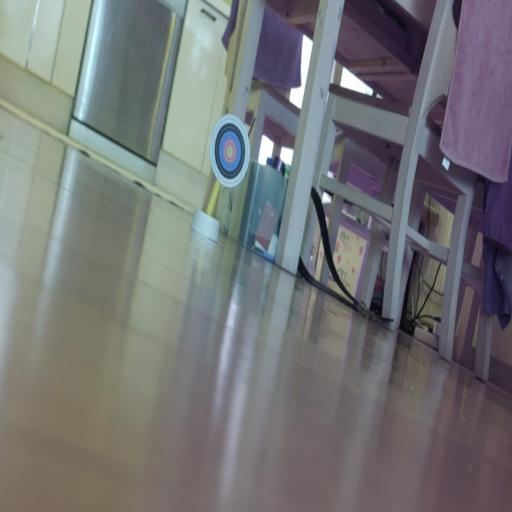target: (210, 114, 250, 186)
